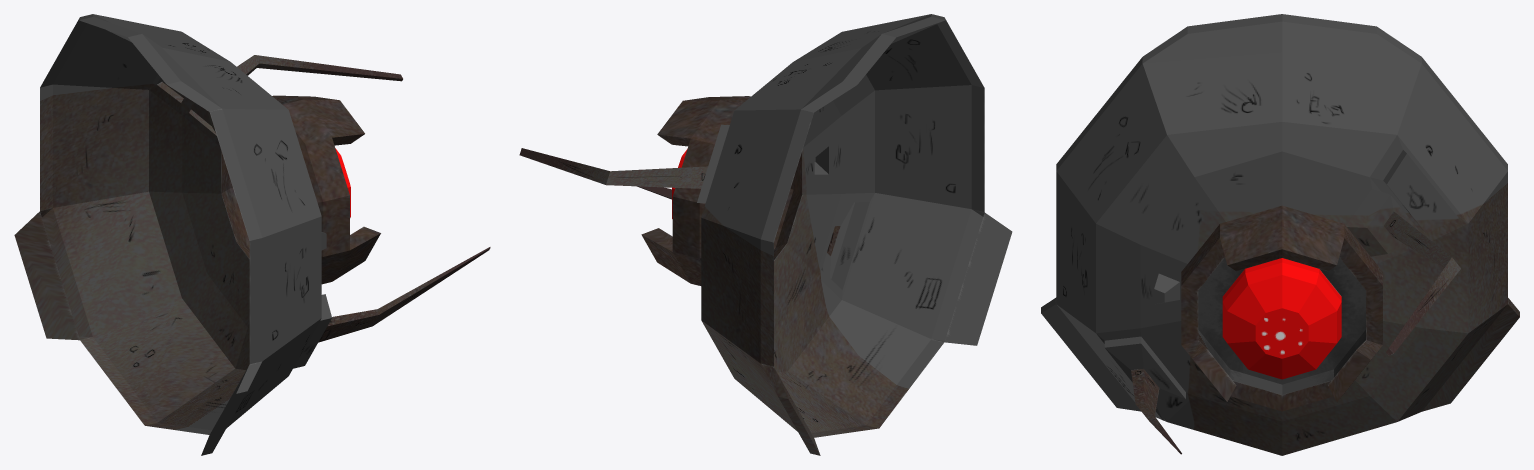
The model's file is BOLAMALA.fbx.
3 renders of one model, left to right at view 1: azimuth 30°, elevation 25°; view 2: azimuth 150°, elevation 25°; view 3: azimuth 270°, elevation 25°, orthographic. The views are drawn at different scales.
Parts seen in each view (by area): view 1: pCylinder1; view 2: pCylinder1; view 3: pCylinder1.
Part boxes in pixels (left/top/right/bottom): pCylinder1: left=14, top=14, right=490, bottom=455; pCylinder1: left=519, top=14, right=1012, bottom=455; pCylinder1: left=1041, top=14, right=1519, bottom=455.
Bounding box in the file's own units: 7.09 × 8.09 × 8.29.
1 material, 1 textured.
